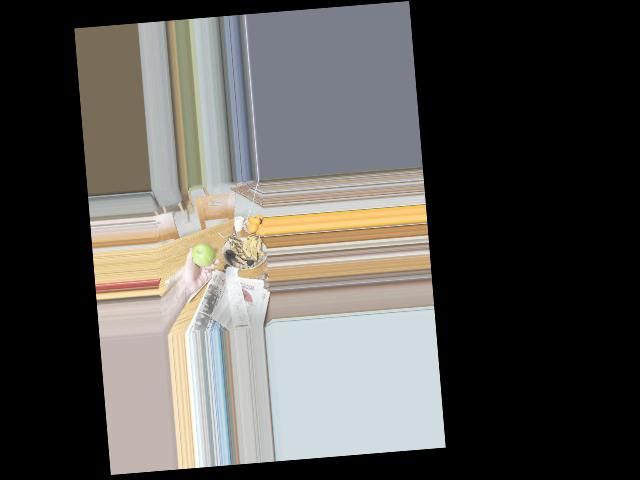apple: (191, 241, 216, 269)
